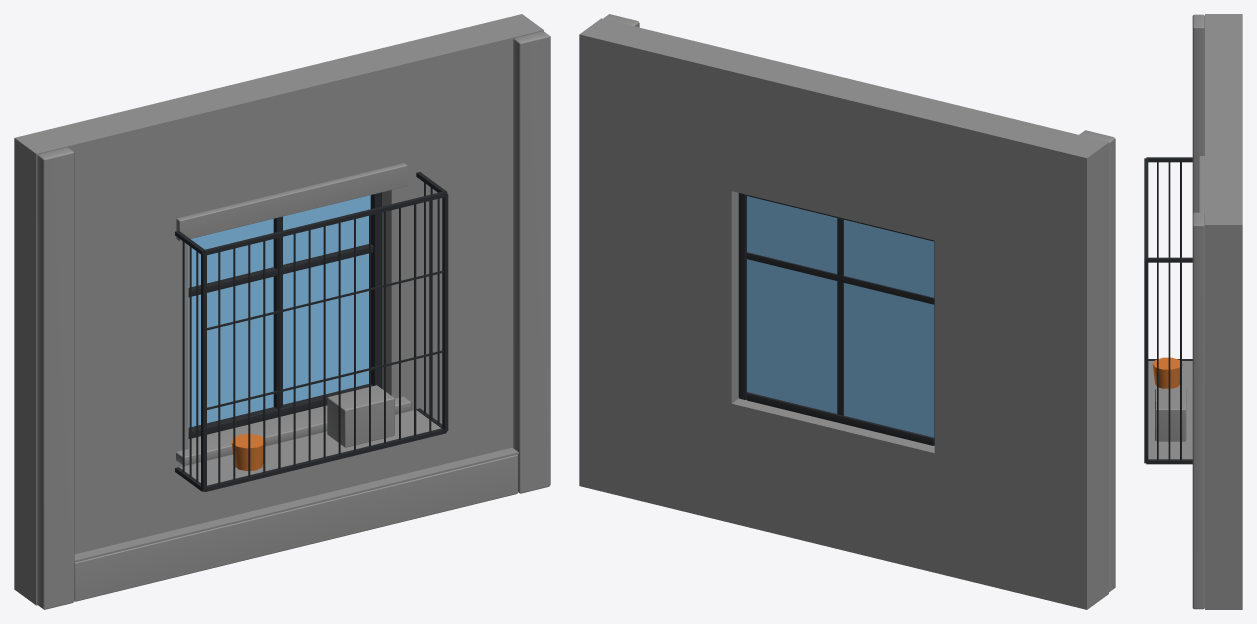
The model's file is Building_Facade_Brick_Window_Cage.fbx.
3 renders of one model, left to right at view 1: azimuth 30°, elevation 25°; view 2: azimuth 150°, elevation 25°; view 3: azimuth 270°, elevation 25°, orthographic. The views are drawn at different scales.
Visible parts, largest first — view 1: Building_Facade_Brick_Window_Cage_LOD0; view 2: Building_Facade_Brick_Window_Cage_LOD0; view 3: Building_Facade_Brick_Window_Cage_LOD0.
Part boxes in pixels (x1,y1,x2,y2): Building_Facade_Brick_Window_Cage_LOD0: (14,14,550,609); Building_Facade_Brick_Window_Cage_LOD0: (579,14,1115,609); Building_Facade_Brick_Window_Cage_LOD0: (1144,14,1242,609).
Size of what is drawn, in the model's own units: 4 by 3.4 by 0.785.
